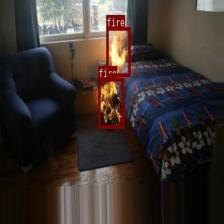fire: (98, 78, 124, 128), (106, 26, 130, 76)
